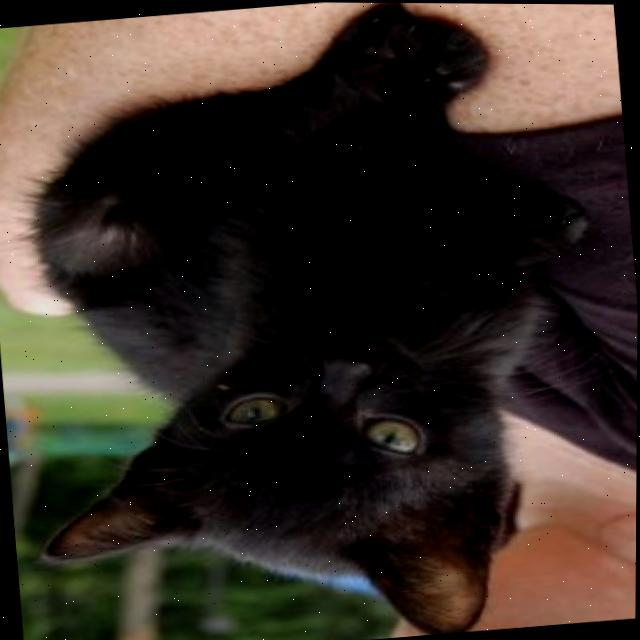Bombay: (0, 0, 631, 640)
